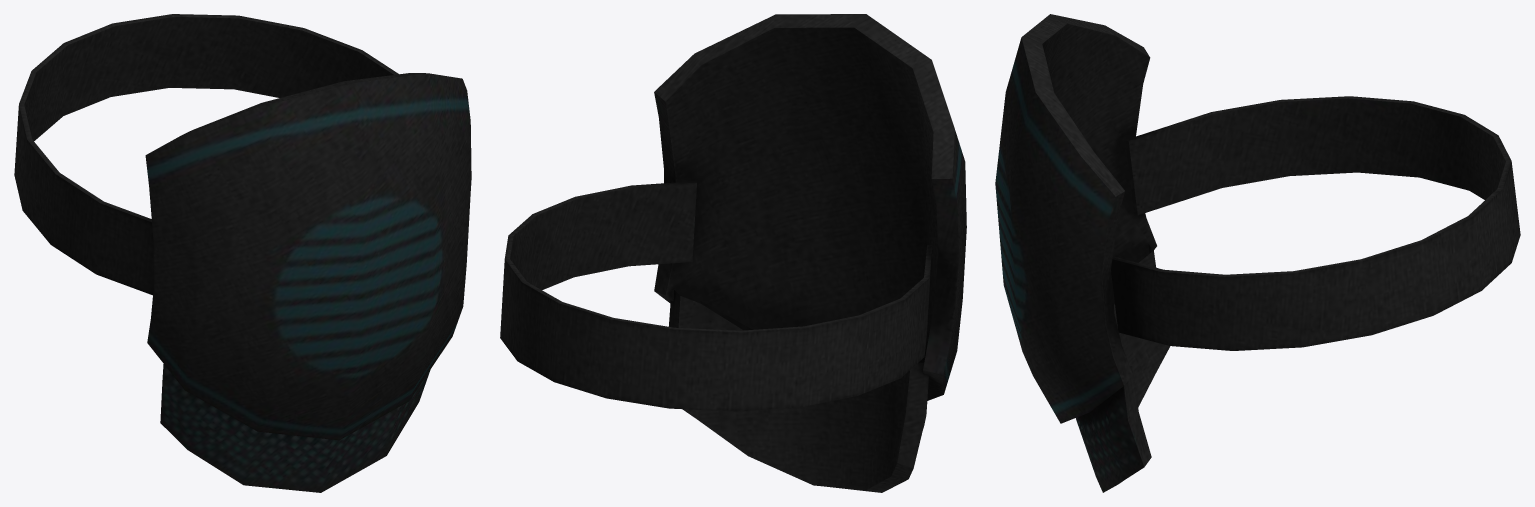
3 renders of one model, left to right at view 1: azimuth 30°, elevation 25°; view 2: azimuth 150°, elevation 25°; view 3: azimuth 270°, elevation 25°, orthographic. The views are drawn at different scales.
Visible parts, largest first — view 1: ankle_belt_R; view 2: ankle_belt_R; view 3: ankle_belt_R.
Boxes of the visible parts, x1=… form: ankle_belt_R: x1=14, y1=14, x2=471, y2=492; ankle_belt_R: x1=500, y1=14, x2=966, y2=492; ankle_belt_R: x1=995, y1=14, x2=1520, y2=492.
Size of the model in its own units: 17.44 by 20.33 by 22.15.
1 material, 1 textured.
